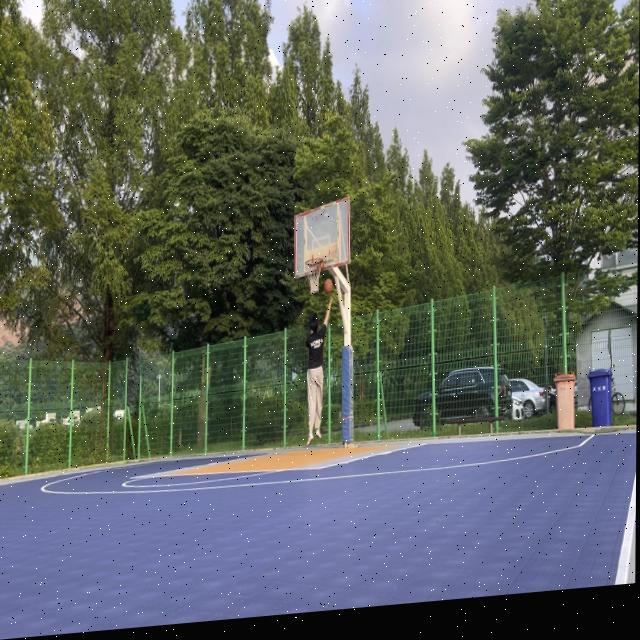basketball: (323, 277, 333, 295)
hoop: (304, 257, 323, 296)
